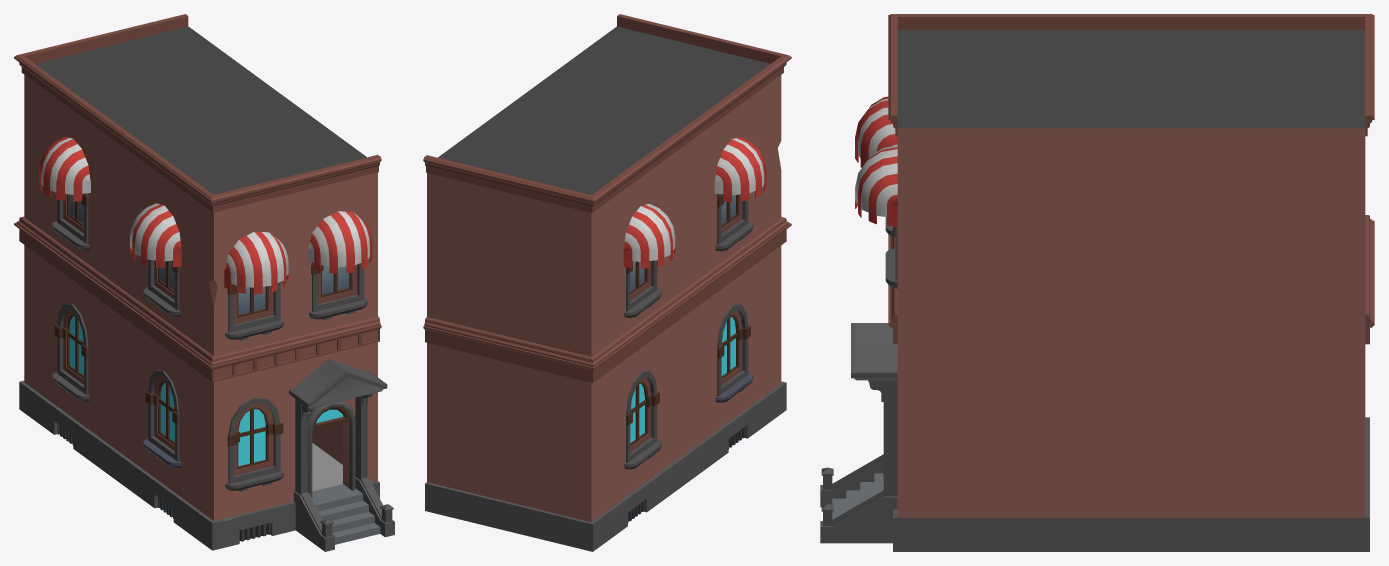
Rendered from SM_Buildings_House_02_V3.fbx.
3 renders of one model, left to right at view 1: azimuth 30°, elevation 25°; view 2: azimuth 150°, elevation 25°; view 3: azimuth 270°, elevation 25°, orthographic. The views are drawn at different scales.
Parts seen in each view (by area): view 1: SM_Buildings_House_02_V3; view 2: SM_Buildings_House_02_V3; view 3: SM_Buildings_House_02_V3.
Part boxes in pixels (box(x1,y1,x2,y2)): SM_Buildings_House_02_V3: box(14, 14, 394, 551); SM_Buildings_House_02_V3: box(423, 14, 791, 551); SM_Buildings_House_02_V3: box(820, 14, 1374, 551).
Size of the model in its own units: 5.91 by 10.3 by 11.86.
